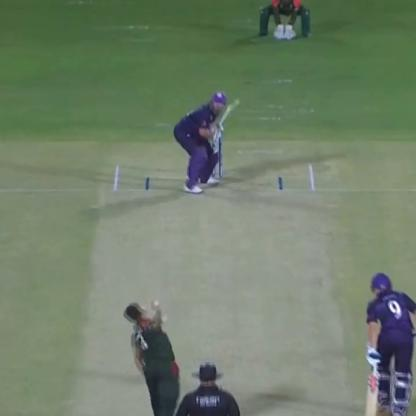ball: (148, 297, 163, 310)
bat: (358, 343, 386, 416), (215, 91, 243, 131)
pitch: (70, 165, 375, 415)
